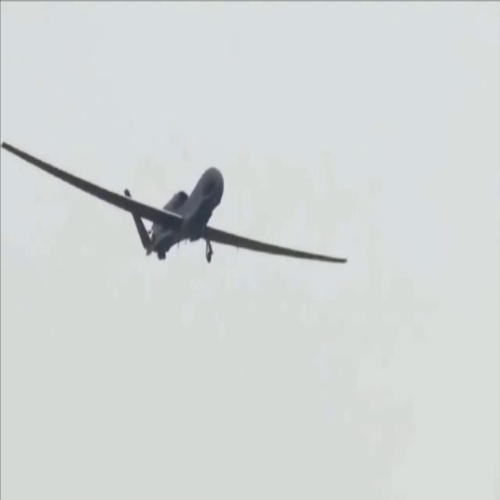uav: (2, 140, 351, 272)
